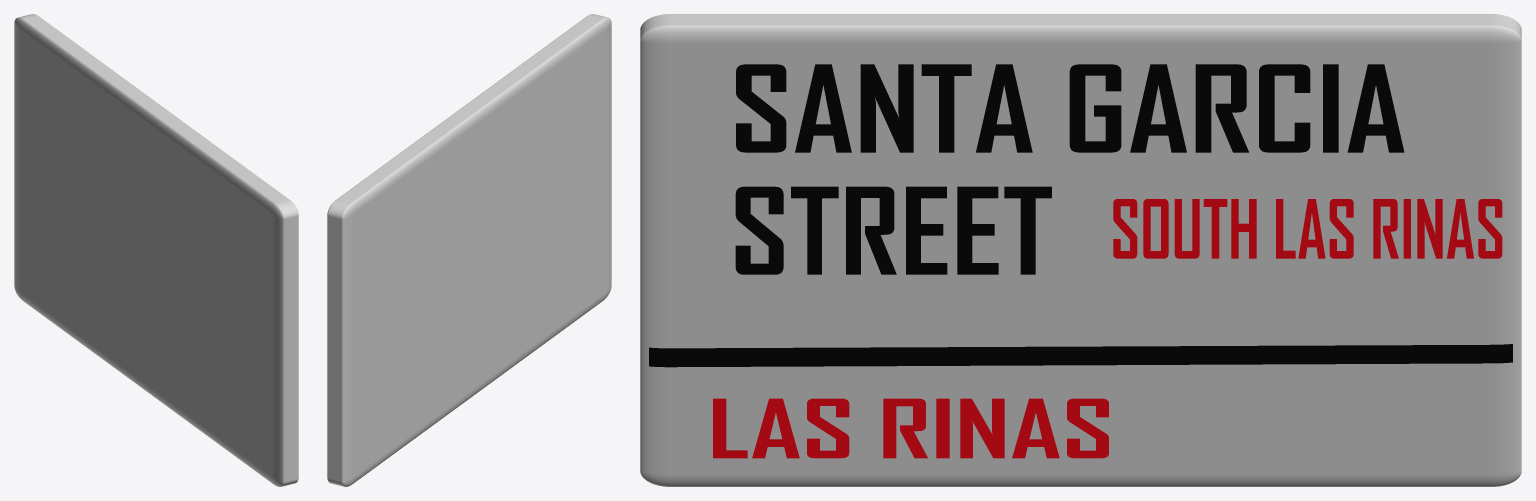
File: las_rinas_sign_5.fbx
The picture shows the model from 3 angles, left to right: view 1: azimuth 30°, elevation 25°; view 2: azimuth 150°, elevation 25°; view 3: azimuth 270°, elevation 25°; orthographic projection. The views are drawn at different scales.
Visible parts, largest first — view 1: Cube; view 2: Cube; view 3: Cube, Text, Text.001, Text.002, Text.003.
Boxes of the visible parts, bbox=[...] form: Cube: bbox=[14, 14, 298, 486]; Cube: bbox=[327, 14, 611, 486]; Cube: bbox=[640, 14, 1521, 486]; Text: bbox=[736, 64, 1404, 152]; Text.001: bbox=[735, 186, 1051, 274]; Text.002: bbox=[713, 398, 1108, 458]; Text.003: bbox=[1113, 199, 1502, 258].
Bounding box in the file's own units: 1.63 × 20.07 × 34.74.
